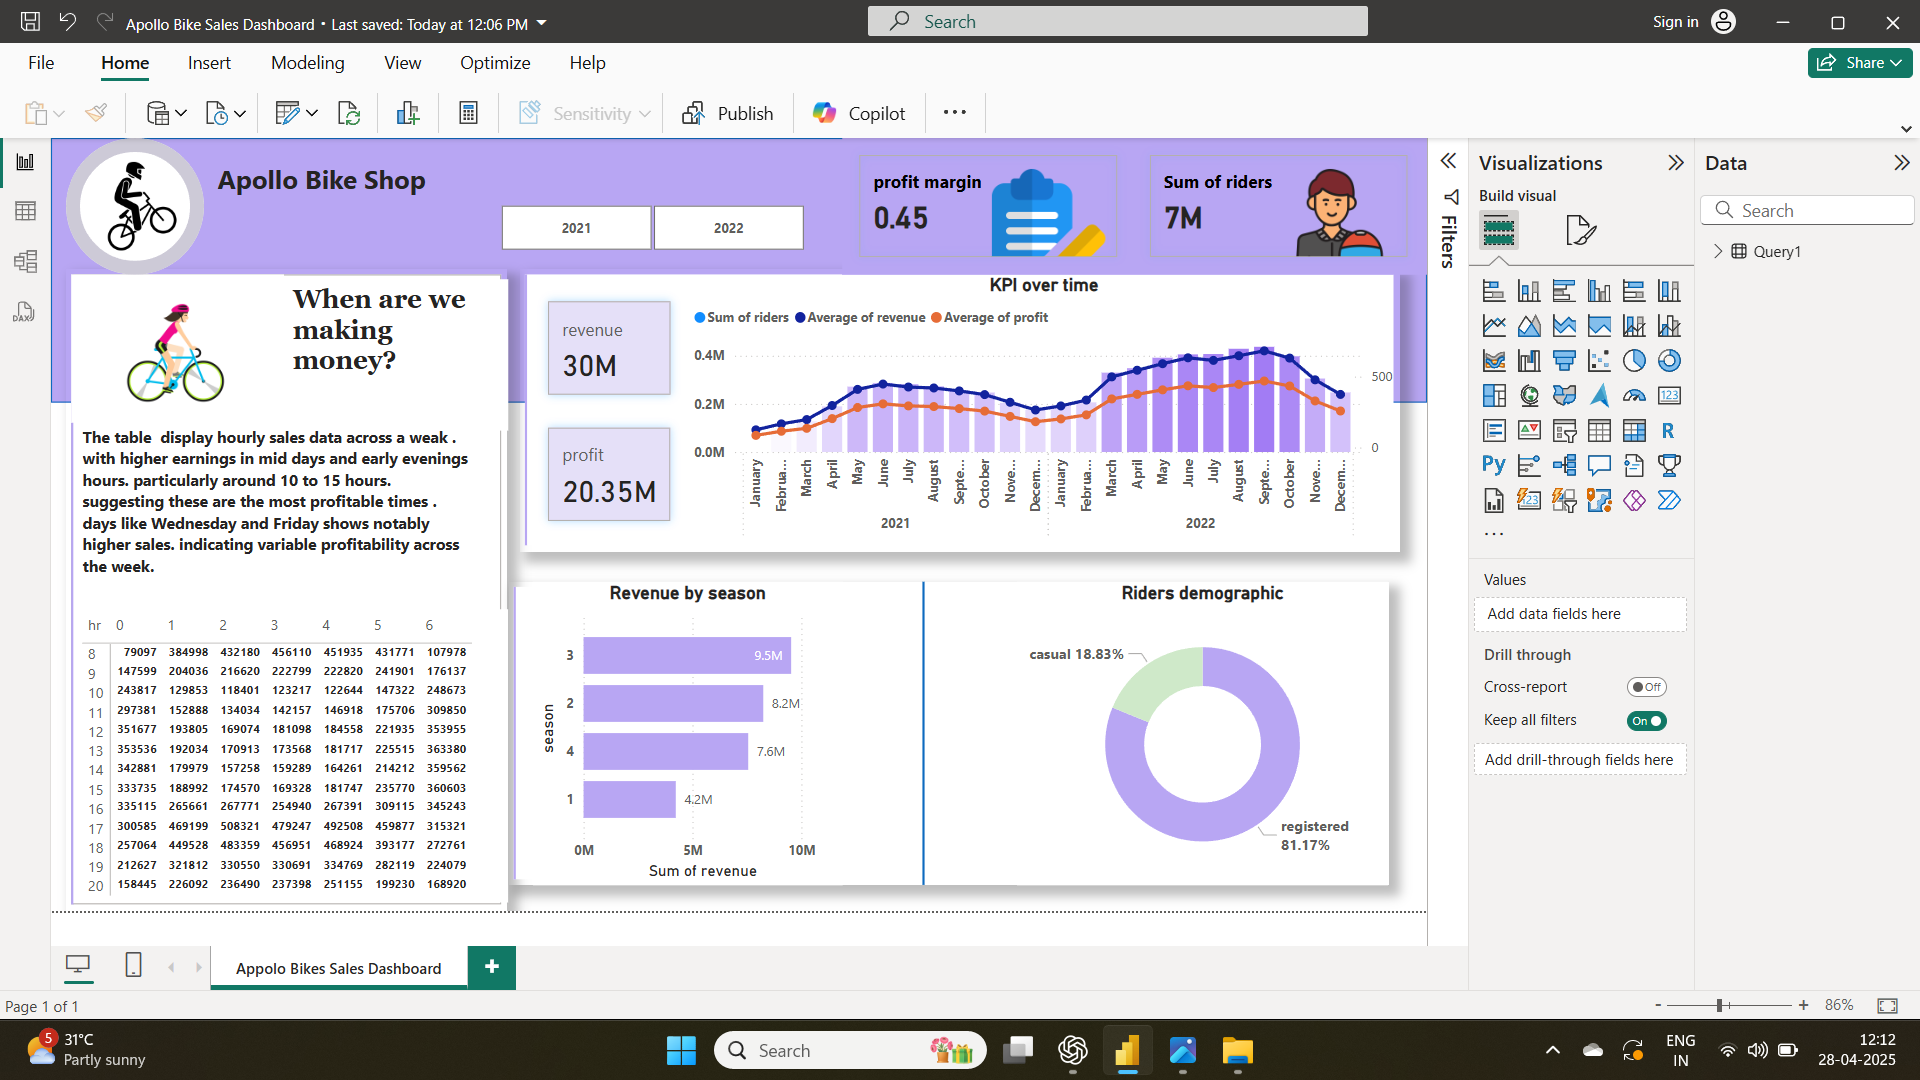

The dashboard page shown, as its layout file describes it:
{"tool":"powerbi","page":{"name":"Appolo Bikes Sales Dashboard","canvas":[1280,720],"ordinal":0},"visuals":[{"type":"shape","box":[0,0,1280,246.2],"z":0},{"type":"cardVisual","fields":{"Data":["Min(Query1.riders)"]},"box":[14.4,122.5,410.7,596.8],"z":1000},{"type":"cardVisual","fields":{"Data":["Min(Query1.riders)"]},"box":[14.4,122.5,208.9,148.9],"z":2000},{"type":"cardVisual","fields":{"Data":["Min(Query1.riders)"]},"box":[435.9,122.5,818.9,263],"z":3000},{"type":"cardVisual","fields":{"Data":["Min(Query1.riders)"]},"box":[425.1,413.1,818.9,282.2],"z":4000},{"type":"pivotTable","fields":{"Columns":["Query1.weekday"],"Values":["Sum(Query1.revenue)"],"Rows":["Query1.hr"]},"box":[24,438.3,401.1,272.6],"z":5000},{"type":"textbox","box":[219.7,130.9,205.3,140.5],"z":6000},{"type":"textbox","box":[24,263,368.6,150.1],"z":7000},{"type":"lineClusteredColumnComboChart","title":"KPI over time","fields":{"Category":["Query1.dteday.Variation.Date Hierarchy.Year","Query1.dteday.Variation.Date Hierarchy.Month","Query1.dteday.Variation.Date Hierarchy.Day"],"Y":["Sum(Query1.riders)"],"Y2":["Avg(Query1.revenue)","Avg(Query1.profit)"]},"box":[593.2,127.3,661.6,254.6],"z":8000},{"type":"barChart","title":"Revenue by season","fields":{"Category":["Query1.season"],"Y":["Sum(Query1.revenue)"]},"box":[449.1,413.1,287,282.2],"z":9000},{"type":"donutChart","title":"Riders demographic","fields":{"Category":["Query1.rider_type"],"Y":["Sum(Query1.riders)"]},"box":[899.4,413.1,344.6,282.2],"z":10000},{"type":"shape","box":[661.6,413.1,300.2,282.2],"z":11000},{"type":"cardVisual","title":"KPI over time","fields":{"Data":["Sum(Query1.revenue)","Sum(Query1.profit)"]},"box":[446.7,135.7,146.5,237.7],"z":12000},{"type":"cardVisual","title":"KPI over time","fields":{"Data":["Query1.profit margin","Sum(Query1.riders)"]},"box":[736.1,0,543.9,127.3],"z":13000},{"type":"shape","box":[14.4,0,128.5,127.3],"z":14000},{"type":"image","box":[24,18,120.1,92.5],"z":15000},{"type":"textbox","box":[150.1,18,222.1,50.4],"z":16000},{"type":"slicer","fields":{"Values":["Query1.Years"]},"box":[392.6,55.2,331.4,55.2],"z":17000}]}

Visuals, with their boxes on the page's 1280x720 design canvas (x1, y1, x2, y2). These are canvas units, not pixel positions in the 1920x1080 screenshot, which may show the page scaled, cropped or inside an application window:
shape: (0,0,1280,246)
cardVisual - Min(Query1.riders): (14,122,425,719)
cardVisual - Min(Query1.riders): (14,122,223,271)
cardVisual - Min(Query1.riders): (436,122,1255,386)
cardVisual - Min(Query1.riders): (425,413,1244,695)
pivotTable - Query1.weekday x Sum(Query1.revenue): (24,438,425,711)
textbox: (220,131,425,271)
textbox: (24,263,393,413)
"KPI over time" lineClusteredColumnComboChart: (593,127,1255,382)
"Revenue by season" barChart: (449,413,736,695)
"Riders demographic" donutChart: (899,413,1244,695)
shape: (662,413,962,695)
"KPI over time" cardVisual: (447,136,593,373)
"KPI over time" cardVisual: (736,0,1280,127)
shape: (14,0,143,127)
image: (24,18,144,110)
textbox: (150,18,372,68)
slicer - Query1.Years: (393,55,724,110)
